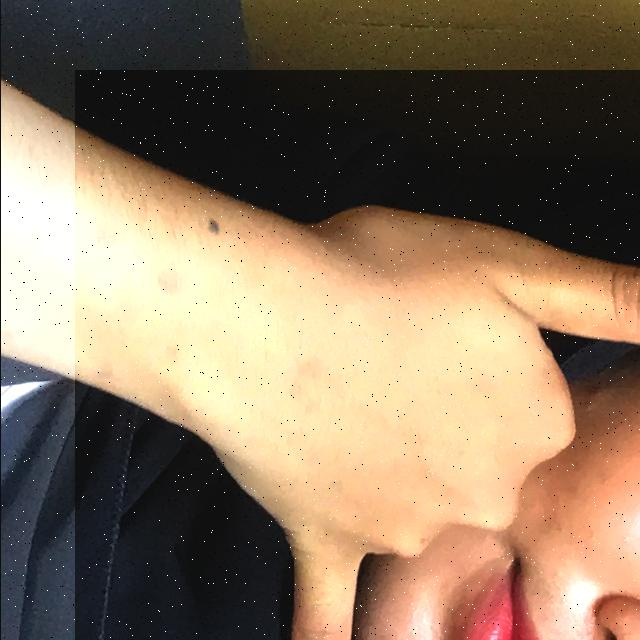telpon: (74, 70, 640, 640)
